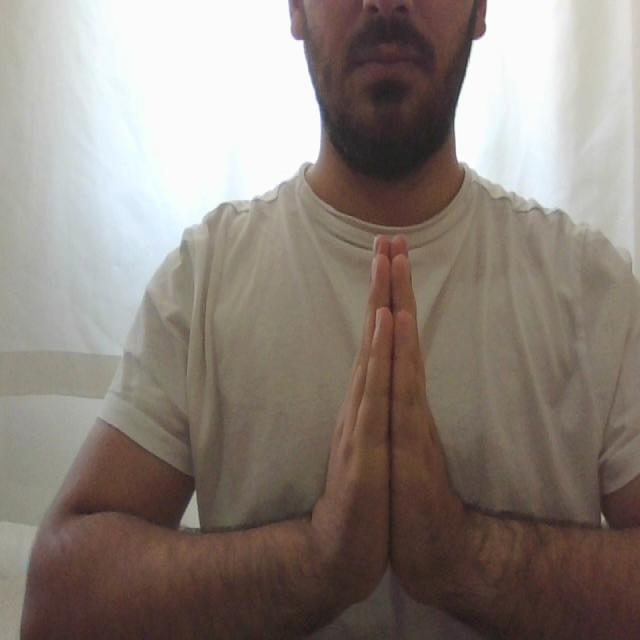Ozur-Dilemek: (311, 218, 469, 640)
